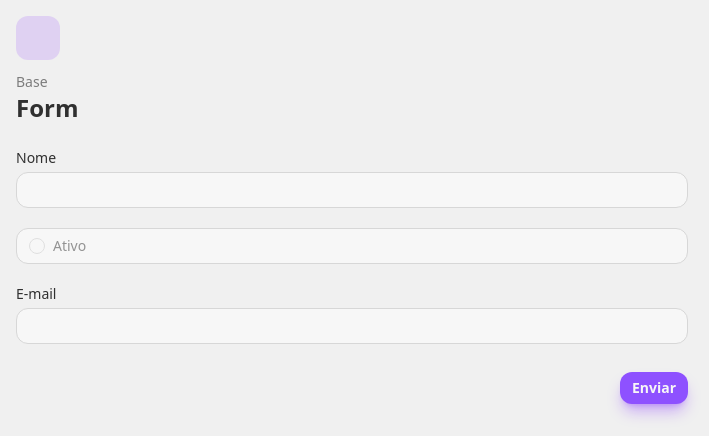
Test: public form column locks › does not serialize disabled checkbox defaults or locked title fields
Expected: the field labelled "Nome" is disabled, 16,172 -> 688,208
Type "ana@example.com" into the field labelled "E-mail" at (352, 326), box 16,308 -> 688,344
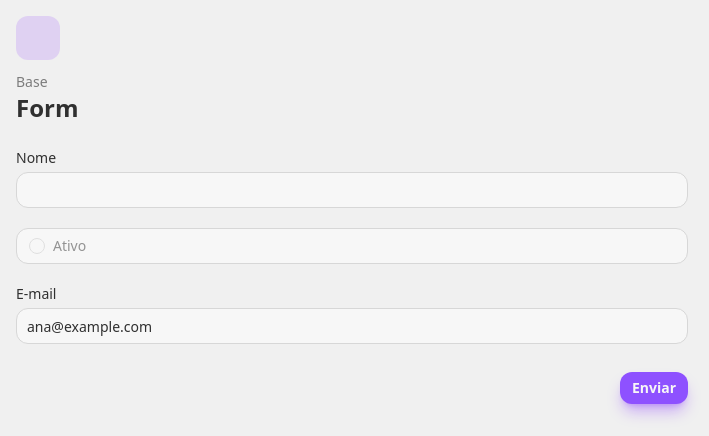
Click the button "Enviar" at (654, 388), box 620,372 -> 688,404
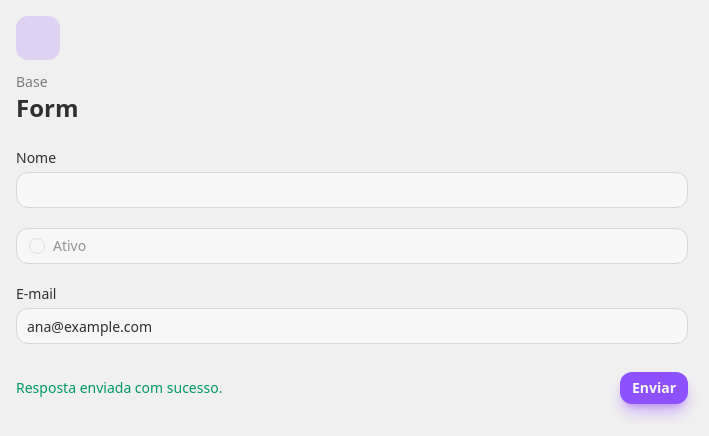
Expected: the message reads "Resposta enviada com sucesso.", 16,378 -> 222,397
